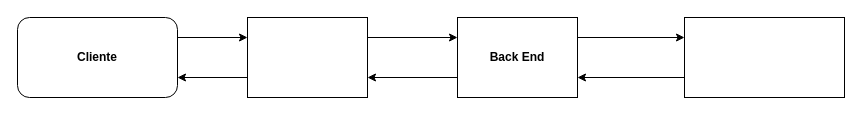
Image size: 862x115. Some labels were removed from this diagram. The box of each missing label's shape, as (x1, y1, x2, y2) in pixels:
Base de Datos: (684, 16, 844, 98)
Front End: (246, 16, 368, 98)
